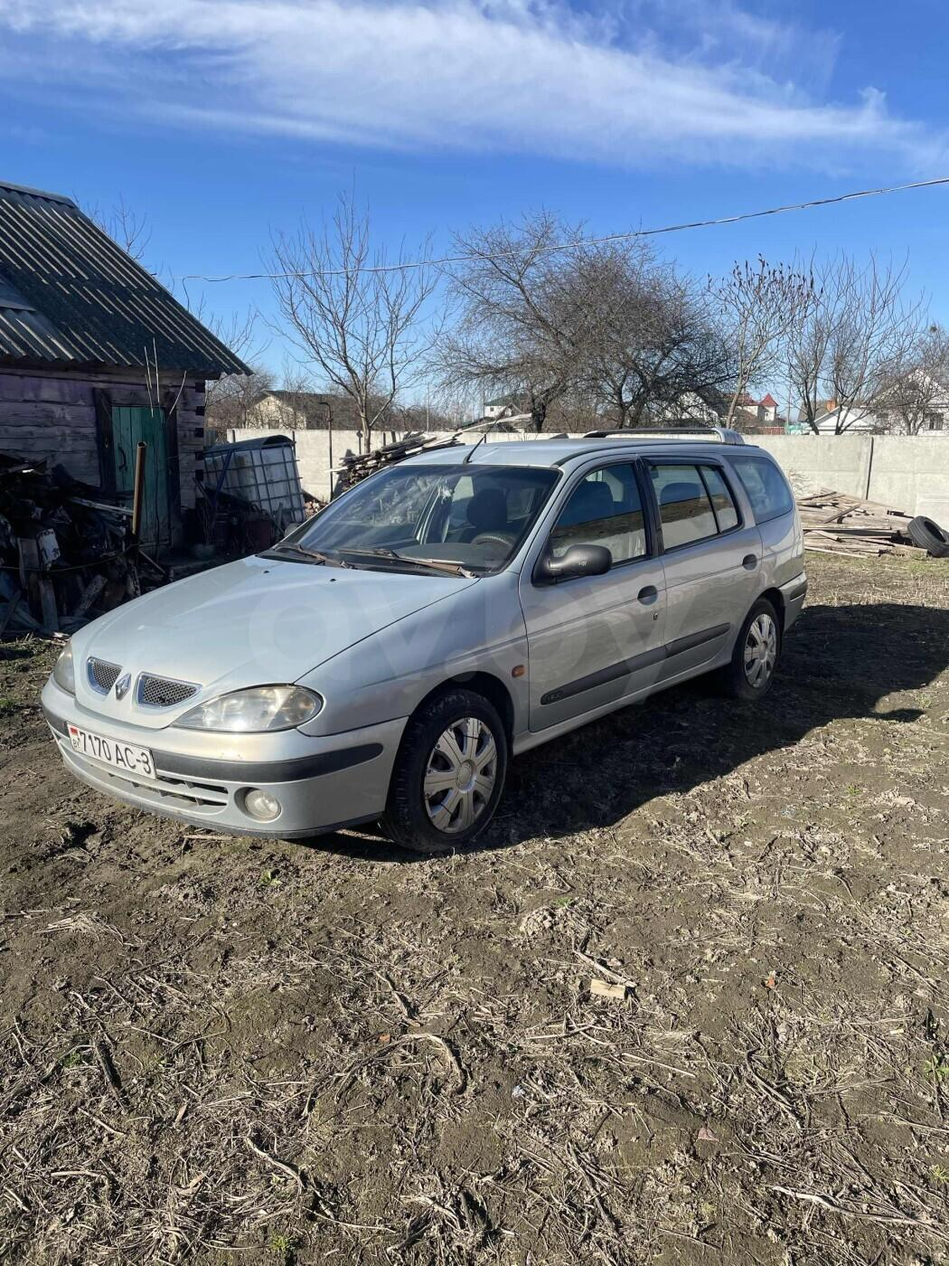Megane_1999-2003: (36, 425, 822, 852)
